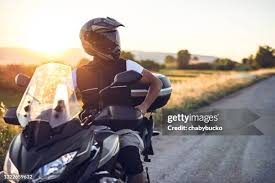motorcycle: (1, 68, 174, 183)
